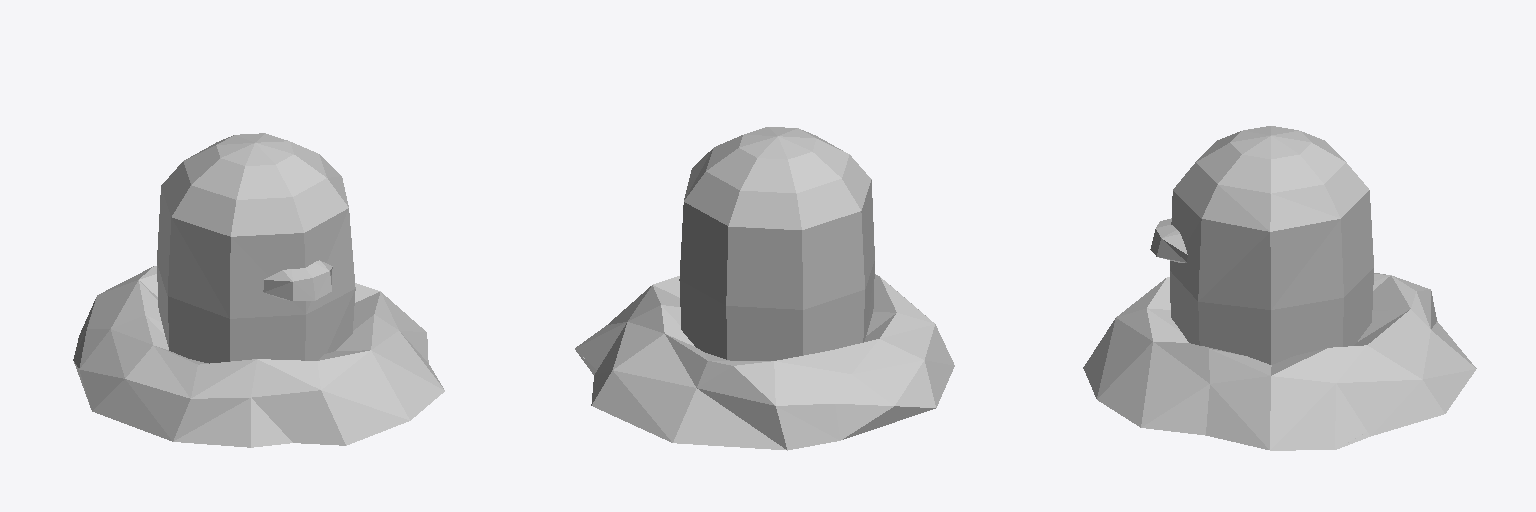
The picture shows the model from 3 angles: view 1: azimuth 30°, elevation 25°; view 2: azimuth 150°, elevation 25°; view 3: azimuth 270°, elevation 25°; orthographic projection.
Parts seen in each view (by area): view 1: skin_col_collmesh; view 2: skin_col_collmesh; view 3: skin_col_collmesh.
Boxes of the visible parts, x1,y1,x2,y2 form: skin_col_collmesh: [73, 133, 444, 447]; skin_col_collmesh: [575, 127, 954, 450]; skin_col_collmesh: [1083, 126, 1476, 450].
Size of the model in its own units: 3.08 by 2.09 by 3.16.